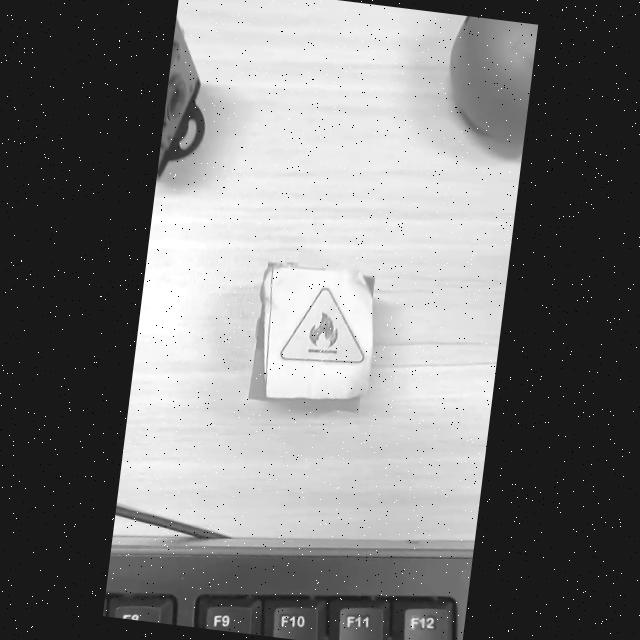Fire: (280, 288, 364, 364)
